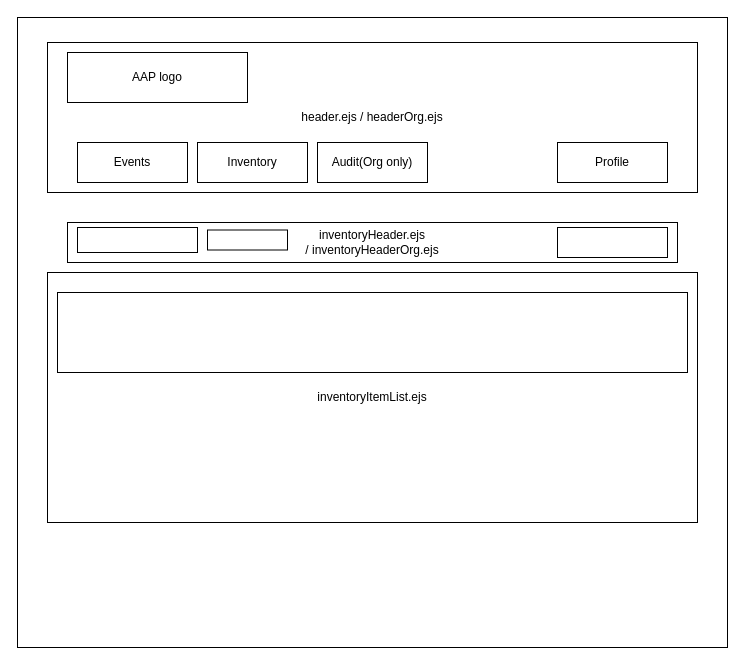
This 745x665 diagram has some shape labels left out. The shapes that lost their labels are listed below. From the top down, each one's centre as x and y in pixels, then its label:
At (x=137, y=239): "Search Field".
At (x=247, y=239): "Search Button".
At (x=612, y=242): "Add Item(Org only)".
At (x=372, y=332): "inventoryItemView.ejs".
